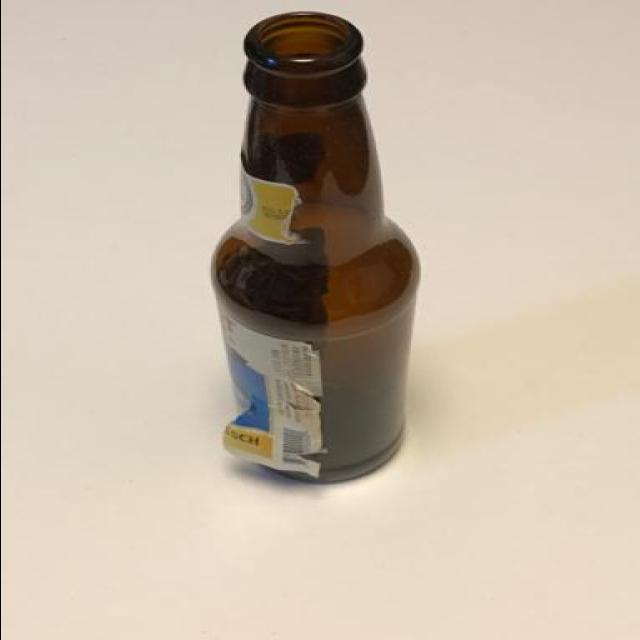glass: (216, 14, 420, 479)
